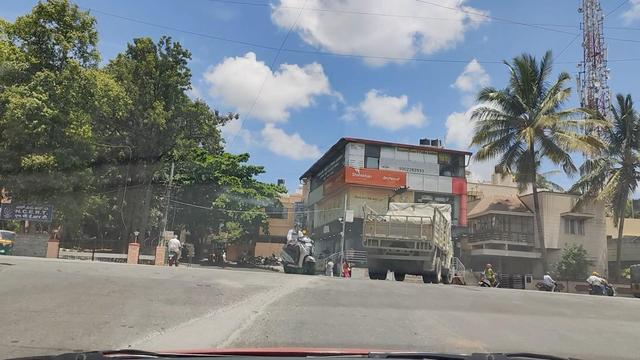HMV: (371, 201, 446, 276), (278, 222, 330, 272)
RoadDamages: (146, 276, 306, 353)
